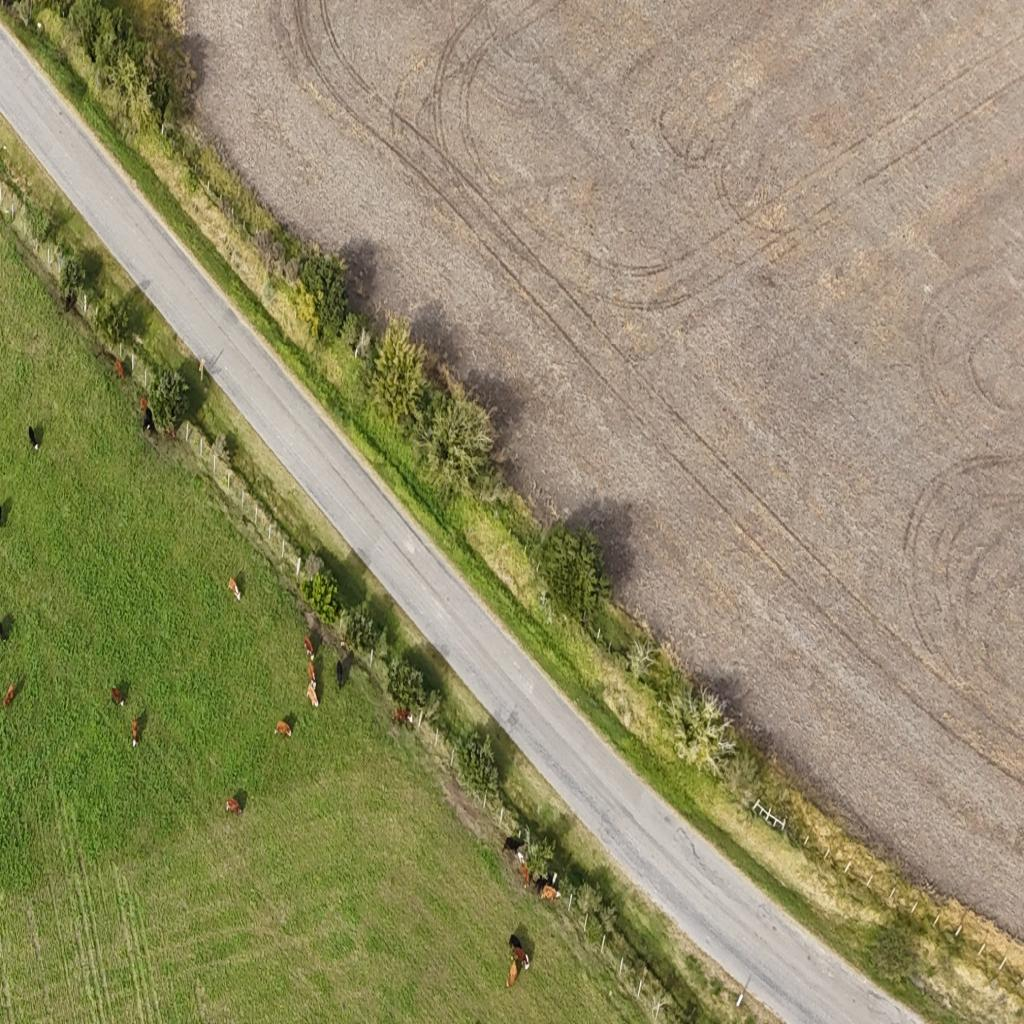cow: (510, 944, 530, 972), (28, 425, 42, 454), (142, 406, 156, 435), (539, 887, 561, 905), (394, 707, 412, 729), (0, 501, 12, 534), (110, 686, 126, 708), (3, 682, 16, 708), (306, 681, 318, 709), (507, 958, 518, 988), (518, 861, 530, 888), (275, 720, 291, 740), (228, 577, 241, 601), (303, 636, 315, 662), (225, 797, 241, 816), (130, 714, 139, 746), (64, 290, 76, 314), (504, 838, 519, 855), (336, 660, 344, 688), (116, 358, 126, 380), (308, 662, 316, 686), (0, 623, 8, 645), (340, 633, 347, 651), (140, 398, 148, 412), (0, 503, 4, 528)
